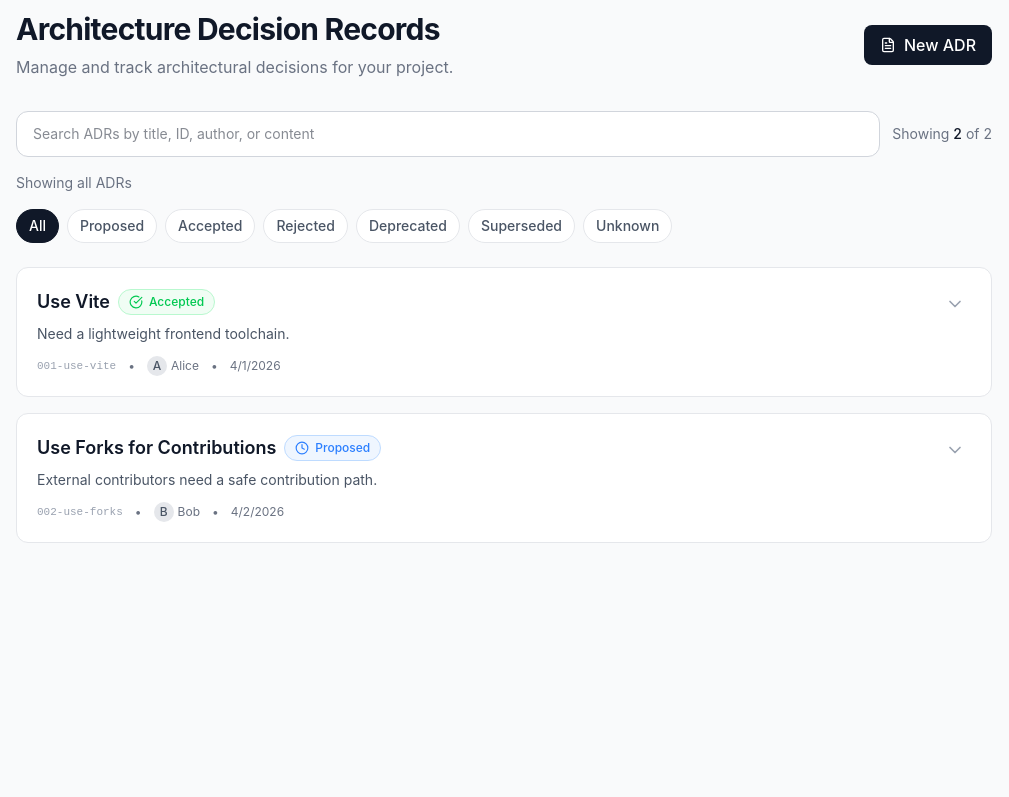
it: AdrList › shows a related ADR link in the expanded detail view when present
What coordinates should you click on to do the following:
click the heading "Use Vite"
I would click on:
 (74, 302)
Its box is [37,288,110,316].
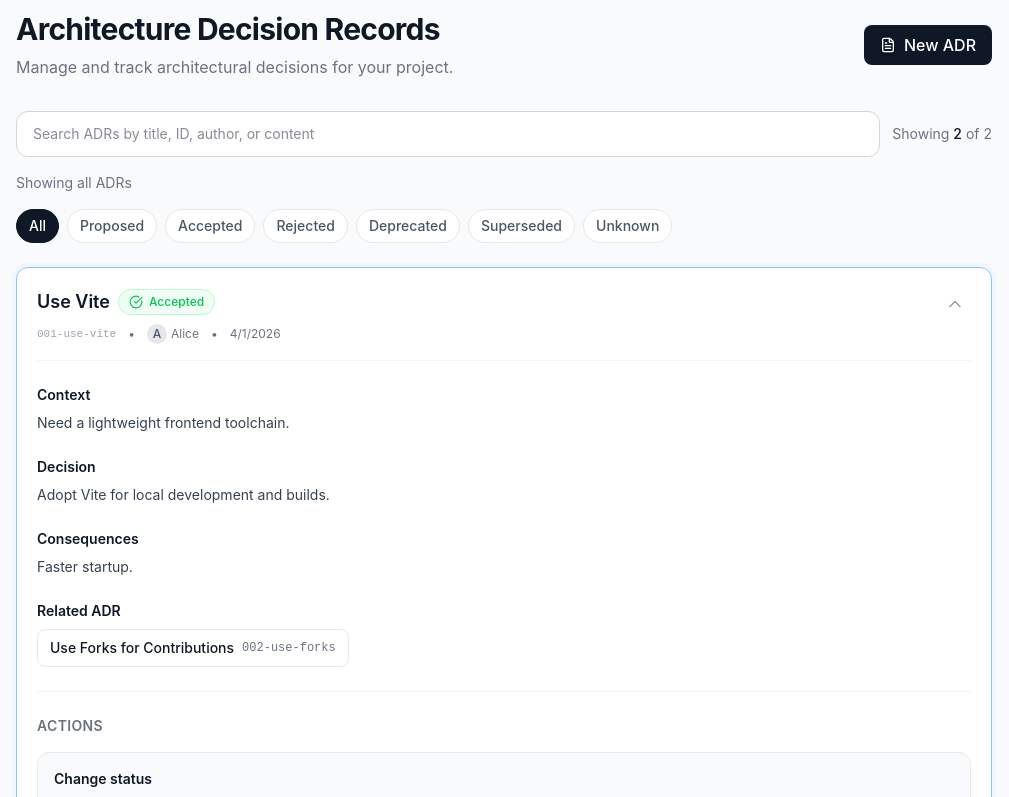
Expected: the heading "Related ADR" is shown, [37,602,121,619]
Expected: the button "Use Forks for Contributions 002-use-forks" is shown, [37,629,349,667]
